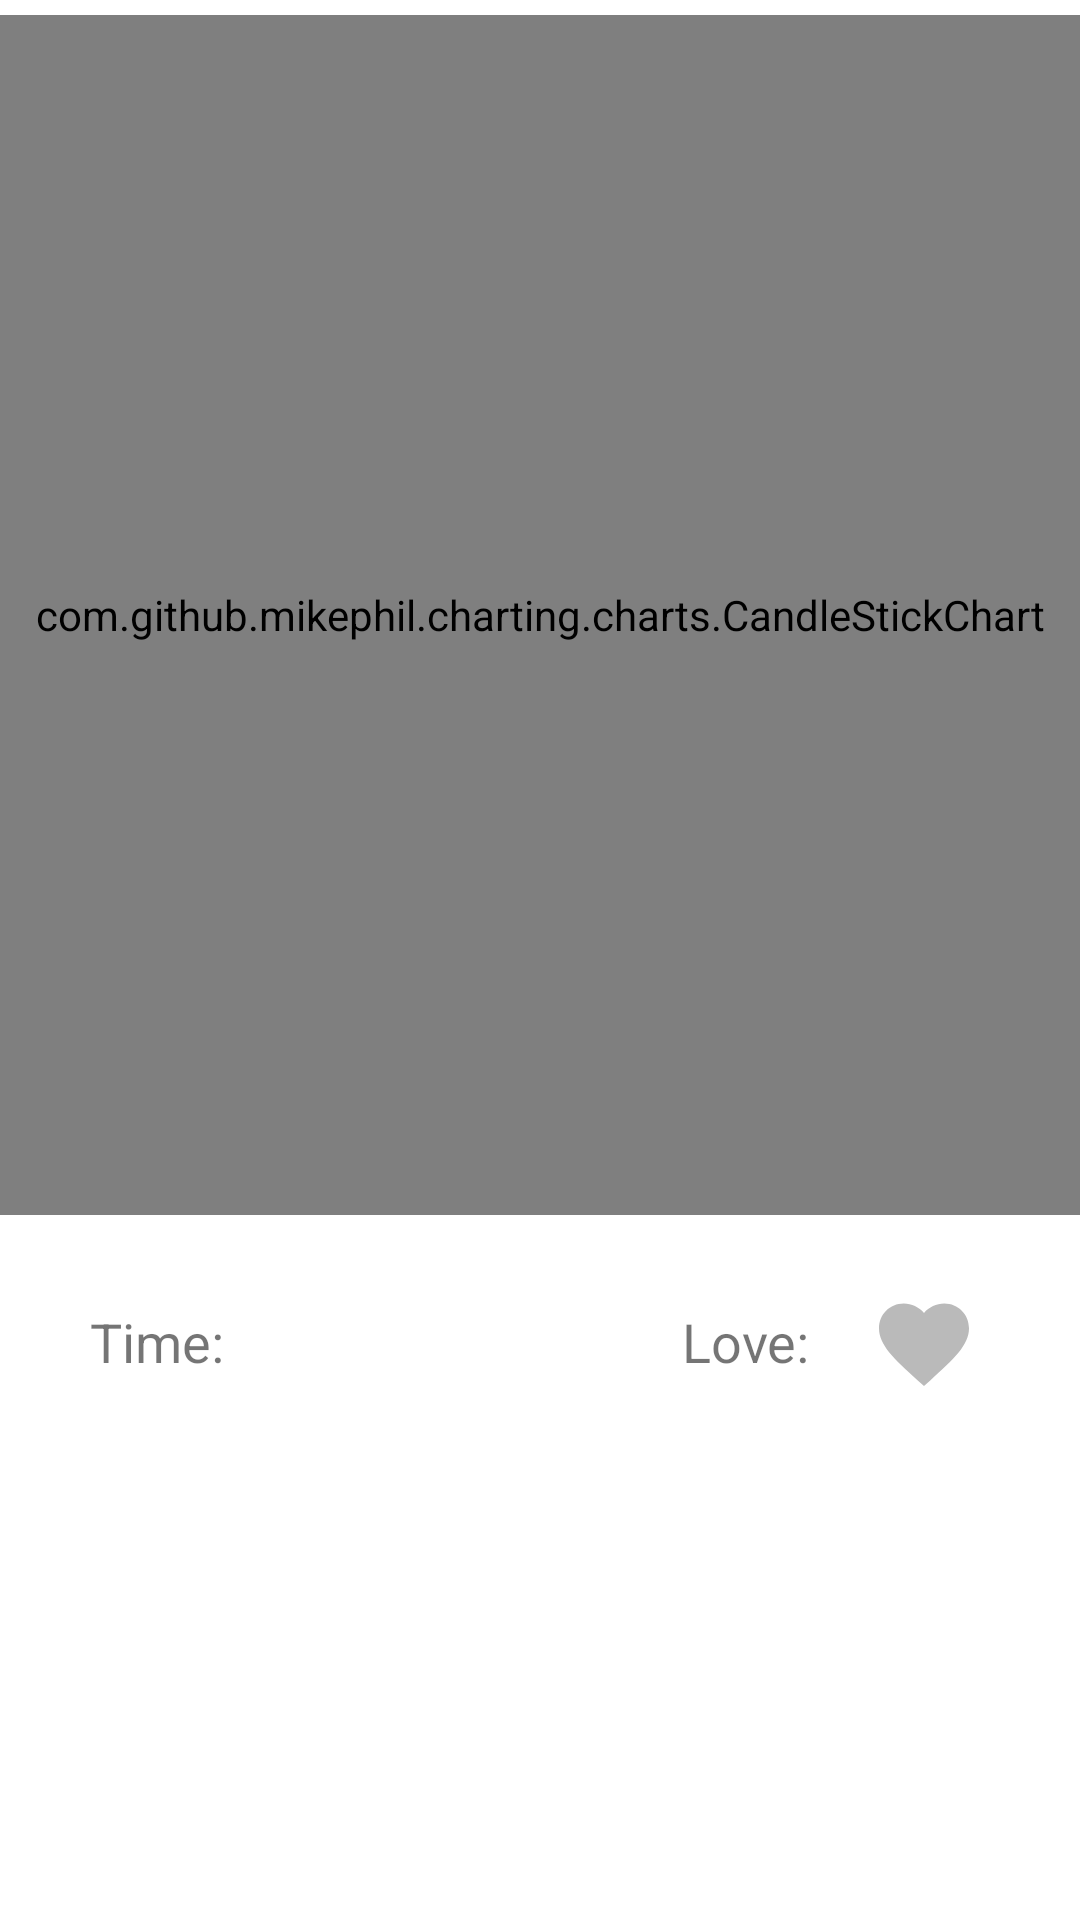

Icon click points for this 1080*1920 phone screenshot, format (x=x, y=y):
heart: (x=924, y=1344)
